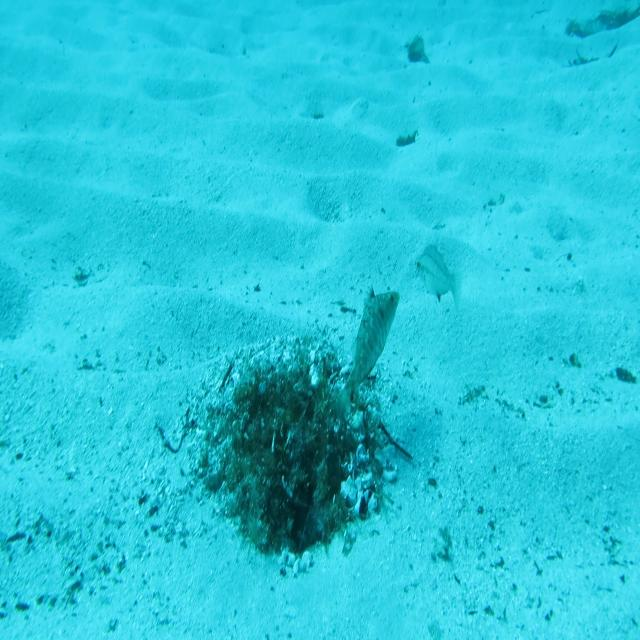MAF: (330, 282, 401, 427)
core_nest: (264, 387, 311, 426)
female: (412, 240, 464, 318)
nest: (178, 317, 405, 593)
vegetation: (396, 126, 420, 149)
